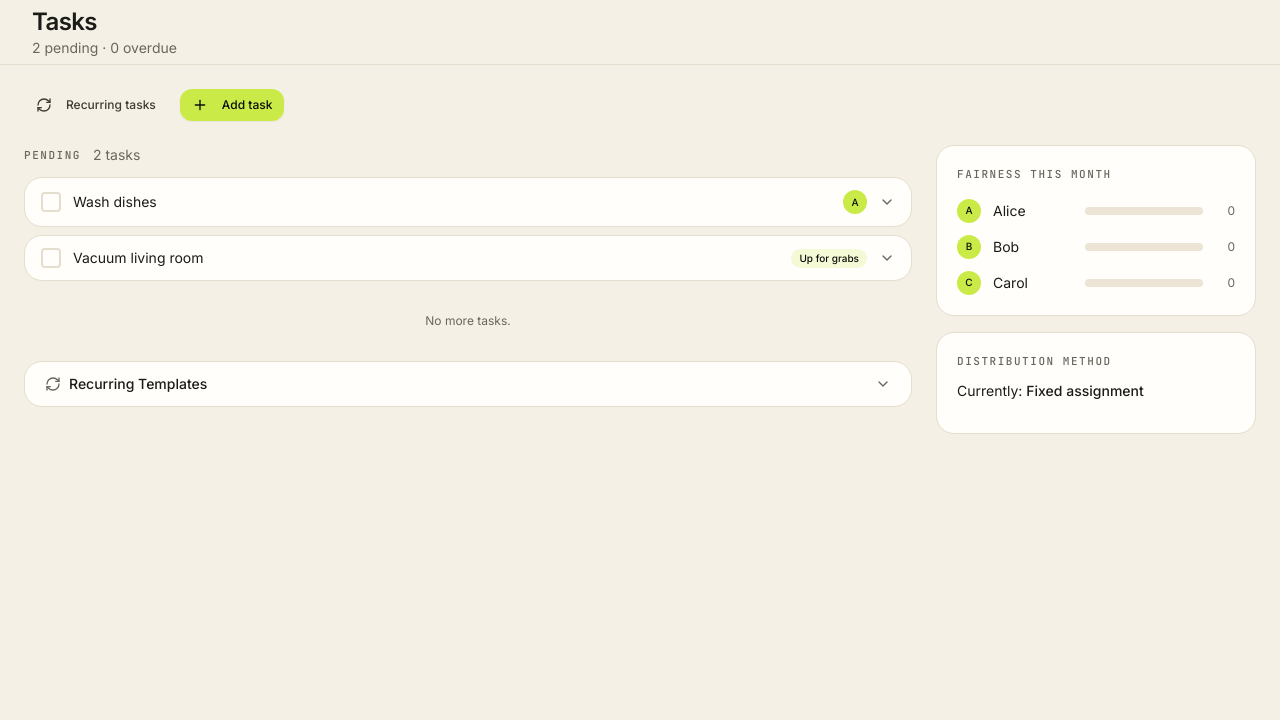
Scenario: <TasksPage /> mode matrix › J-m.6 — roommates + full + fixed: AssignSelect renders in expanded task
The image size is (1280, 720).
Click the text "Wash dishes": point(115, 202) [73,193,157,210]
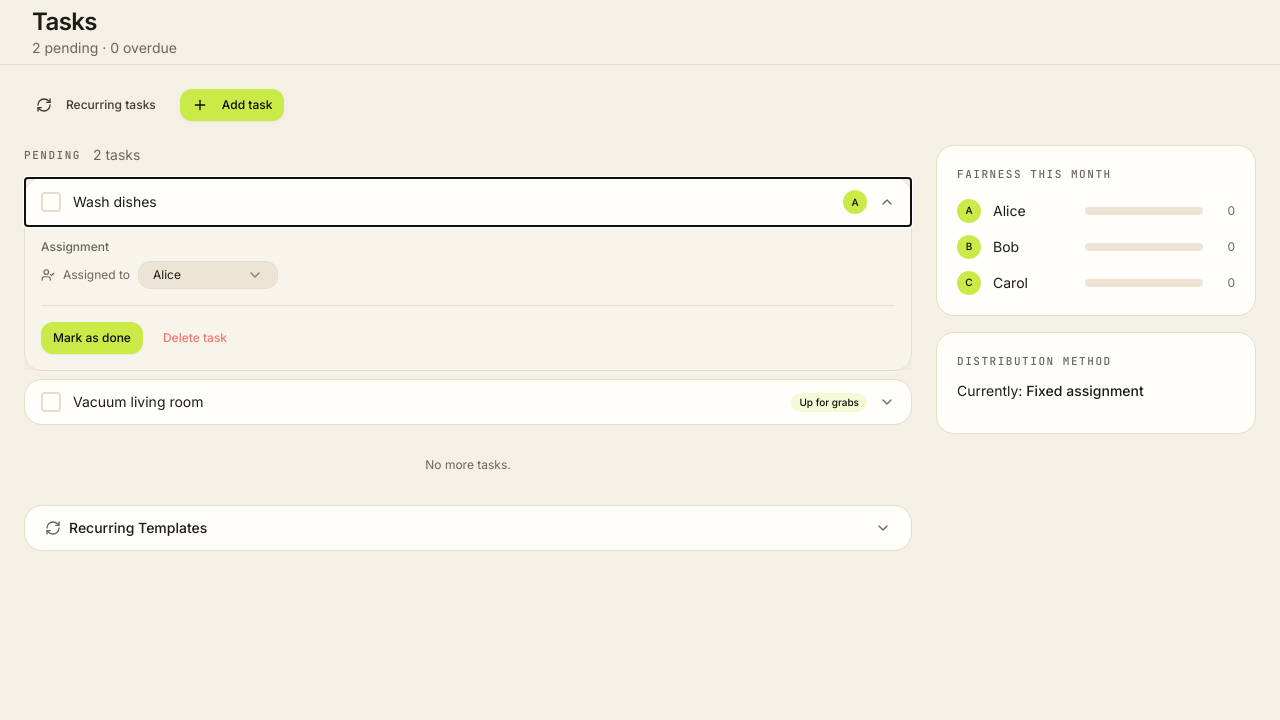
Expected: the dropdown is shown, [138,261,278,289]
